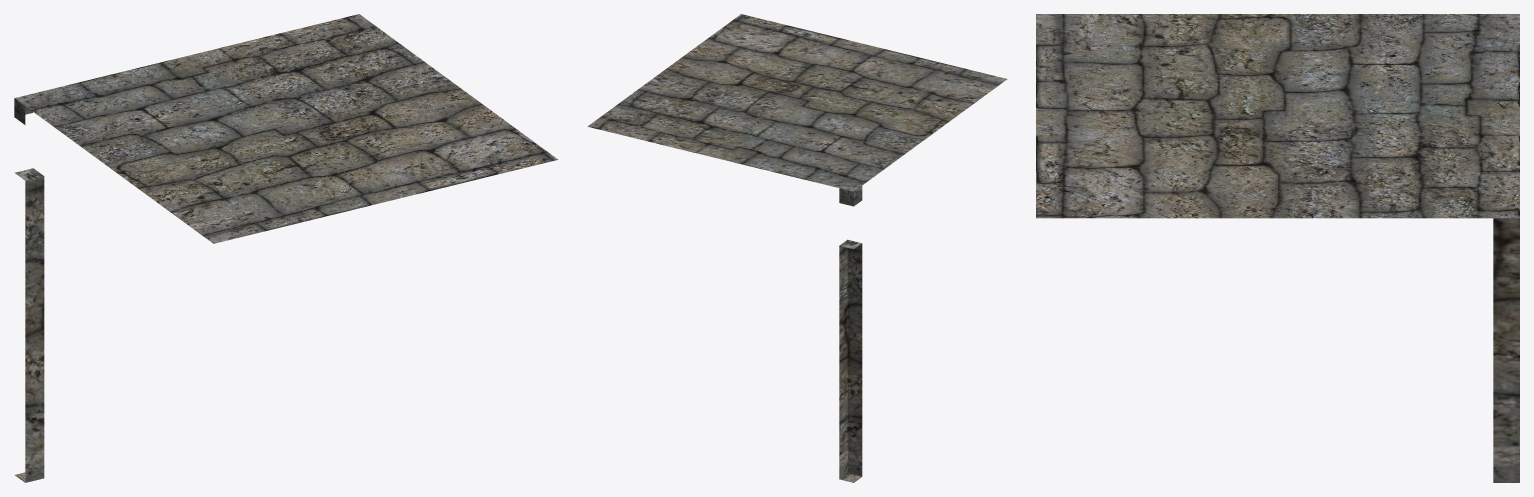
The model's file is Fort_11111110.gltf.
3 views of the same model, side by side, from view 1: azimuth 30°, elevation 25°; view 2: azimuth 150°, elevation 25°; view 3: azimuth 270°, elevation 25° (orthographic). The views are drawn at different scales.
Visible parts, largest first — view 1: Claimed_11111110; view 2: Claimed_11111110; view 3: Claimed_11111110.
Part boxes in pixels (x1=…): Claimed_11111110: x1=14, y1=14, x2=557, y2=482; Claimed_11111110: x1=587, y1=14, x2=1007, y2=482; Claimed_11111110: x1=1036, y1=14, x2=1519, y2=482.
Size of the model in its own units: 2.5 by 2.61 by 2.5.
1 material, 1 textured.
